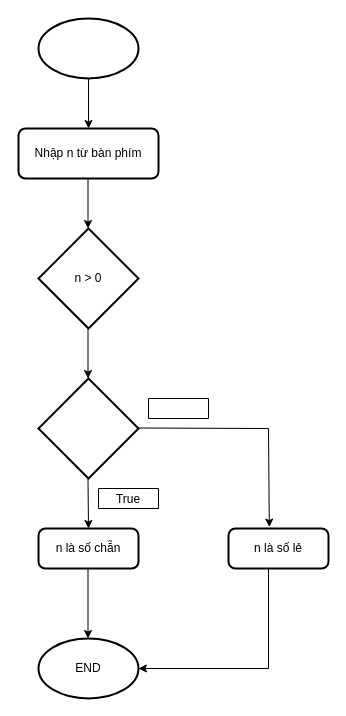
This 346x716 diagram has some shape labels left out. The shapes that lost their labels are listed below. From the top down, each one's box as (x1, y1, x2, y2) in pixels, then its label:
(37, 17, 139, 79): Sart
(37, 377, 139, 479): n / 2 dư 0
(148, 398, 208, 418): False
